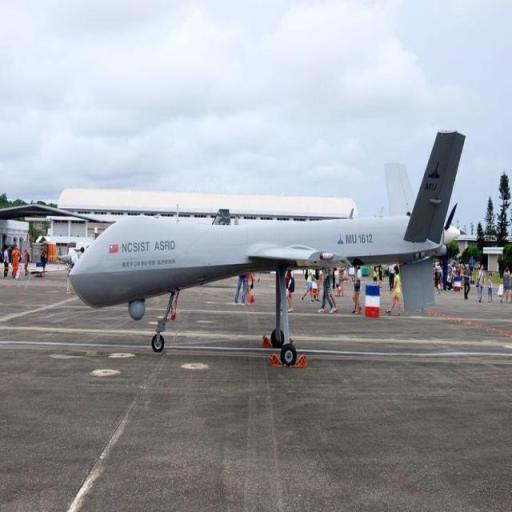uav: (60, 127, 478, 385)
